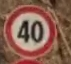limite 40: (1, 1, 58, 58)
